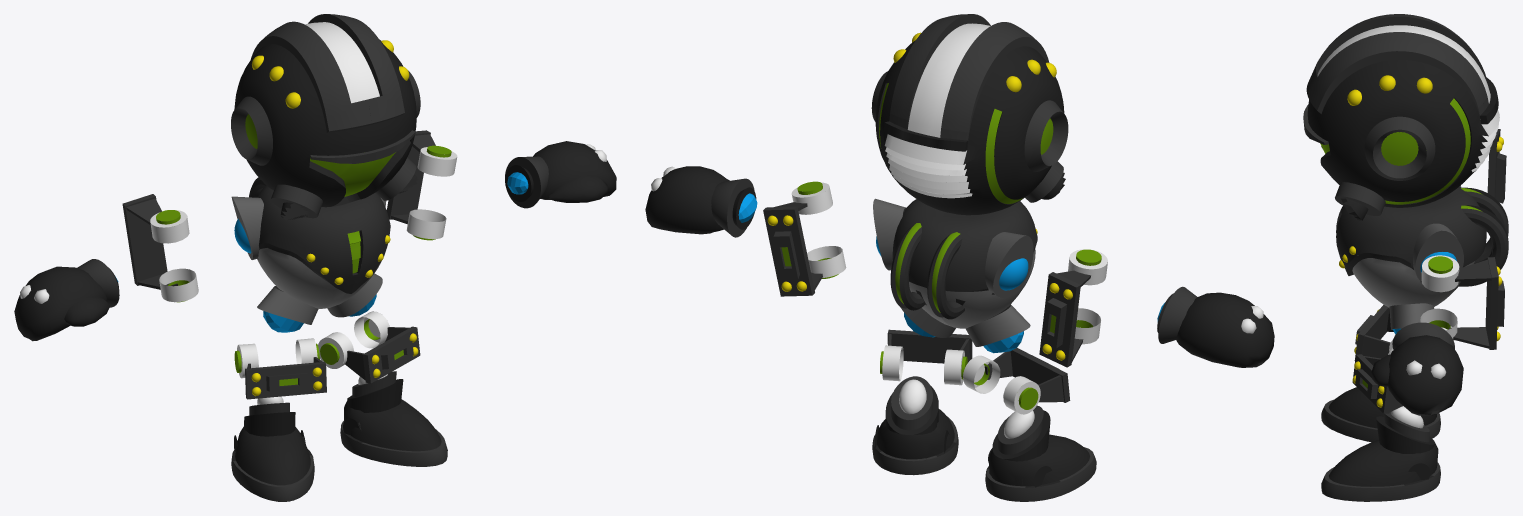
Rendered from bioren.glb.
The picture shows the model from 3 angles, left to right: view 1: azimuth 30°, elevation 25°; view 2: azimuth 150°, elevation 25°; view 3: azimuth 270°, elevation 25°; orthographic projection. The views are drawn at different scales.
Visible parts, largest first — view 1: headone, body, Lfoot, Rfoot, Rhand, Lhand, Relbow, Lknee, Rknee, Lelbow, body.004, body.001 (+1 smaller); view 2: headone, body, Rfoot, Rhand, Lhand, Lfoot, Lelbow, Relbow, Rknee, Lknee, body.001, body.004 (+2 smaller); view 3: headone, body, Lfoot, Lhand, Lelbow, Rfoot, body.002, Rknee, Lknee, Relbow, body.003.
Part boxes in pixels (box(x1,y1,x2,y2)): headone: box(231, 14, 420, 220); body: box(249, 177, 390, 308); Lfoot: box(340, 371, 447, 466); Rfoot: box(231, 396, 314, 501); Rhand: box(14, 259, 119, 341); Lhand: box(505, 141, 616, 208); Relbow: box(122, 194, 198, 302); Lknee: box(318, 311, 420, 383); Rknee: box(234, 338, 326, 399); Lelbow: box(386, 130, 457, 240); body.004: box(257, 286, 318, 332); body.001: box(231, 196, 263, 259); headone: box(871, 14, 1068, 215); body: box(890, 199, 1037, 328); Rfoot: box(985, 405, 1096, 501); Rhand: box(1157, 286, 1274, 367); Lhand: box(645, 166, 757, 237); Lfoot: box(872, 376, 958, 475); Lelbow: box(763, 181, 846, 296); Relbow: box(1039, 249, 1107, 367); Rknee: box(963, 348, 1070, 414); Lknee: box(880, 329, 972, 385); body.001: box(985, 232, 1033, 297); body.004: box(966, 305, 1030, 353); headone: box(1303, 14, 1499, 220); body: box(1336, 186, 1508, 307); Lfoot: box(1321, 406, 1440, 501); Lhand: box(1371, 322, 1463, 415); Lelbow: box(1420, 255, 1504, 349); Rfoot: box(1321, 387, 1440, 442); body.002: box(1413, 223, 1463, 281); Rknee: box(1354, 304, 1436, 360); Lknee: box(1352, 348, 1402, 413); Relbow: box(1487, 129, 1506, 203); body.003: box(1389, 303, 1434, 334).
Bounding box in the file's own units: 8.38 × 5.82 × 2.52.
